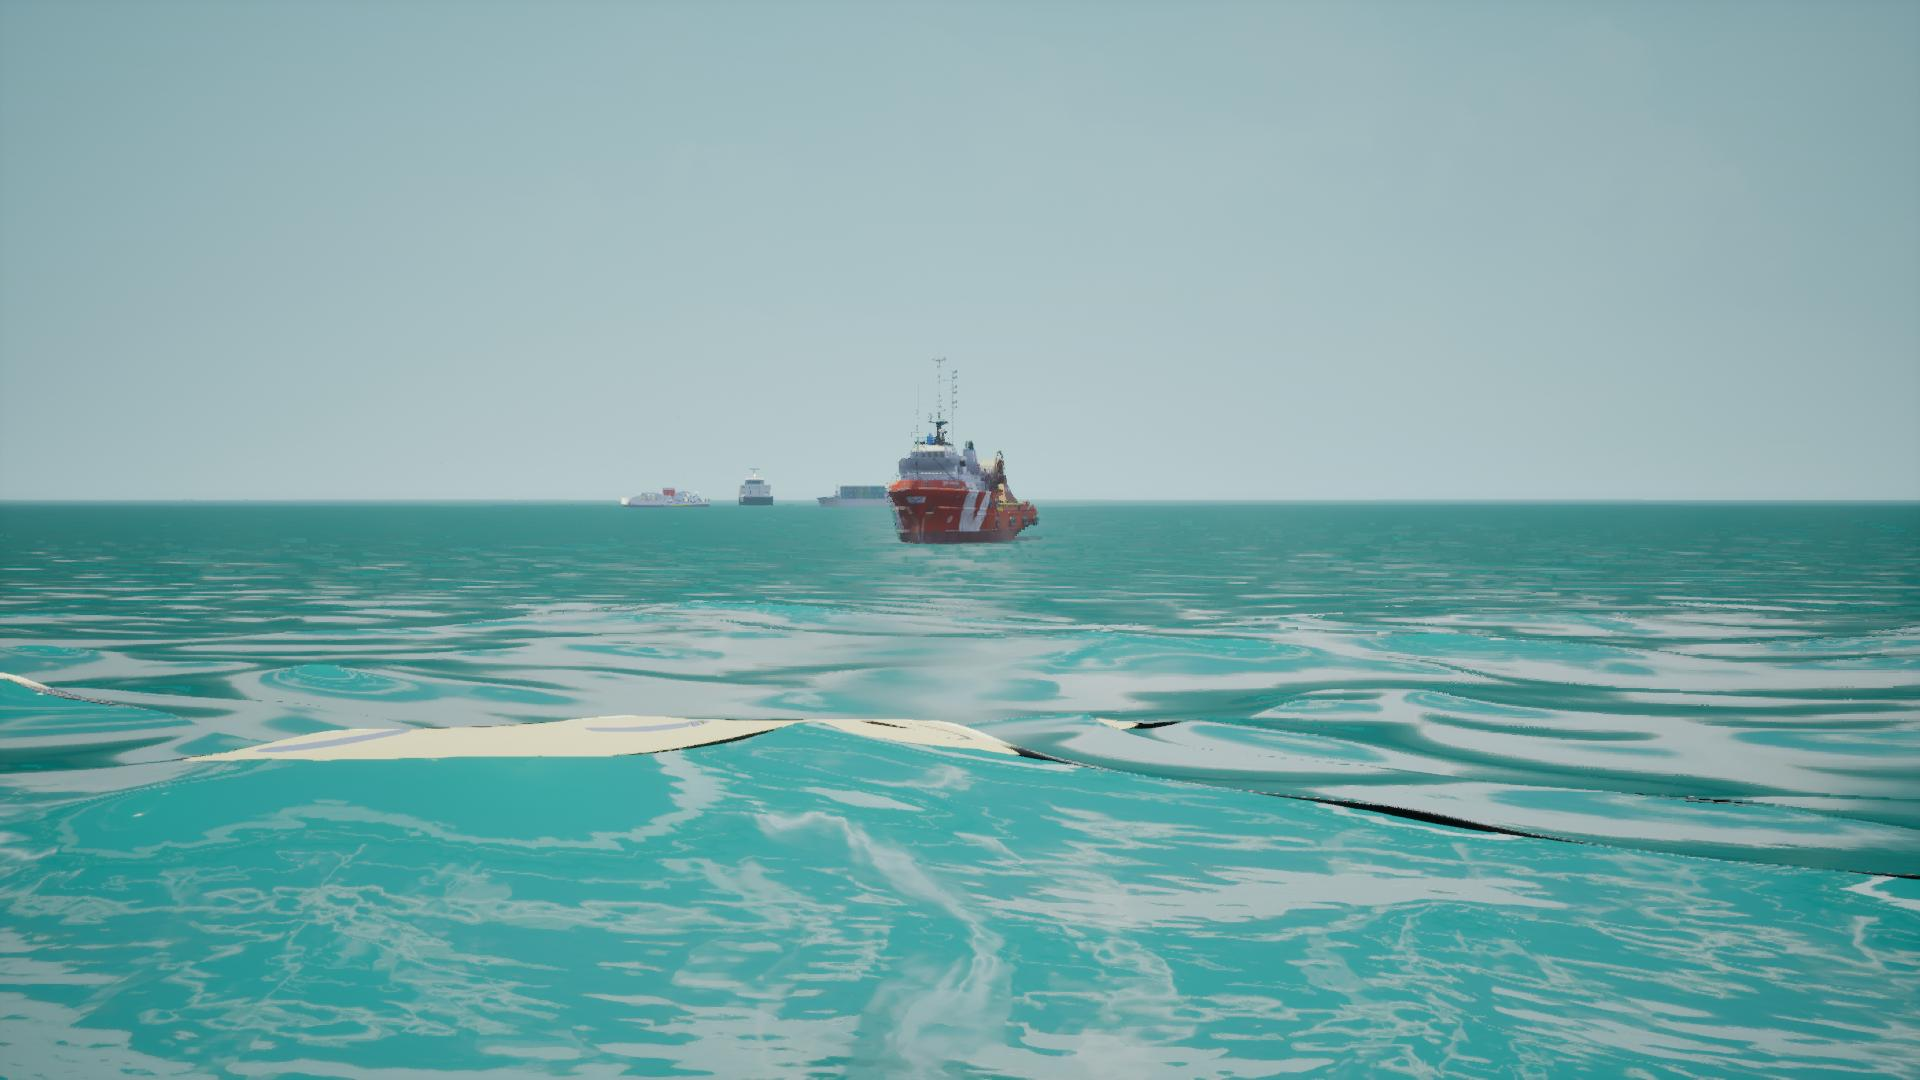Tug Boat: (887, 361, 1034, 545)
